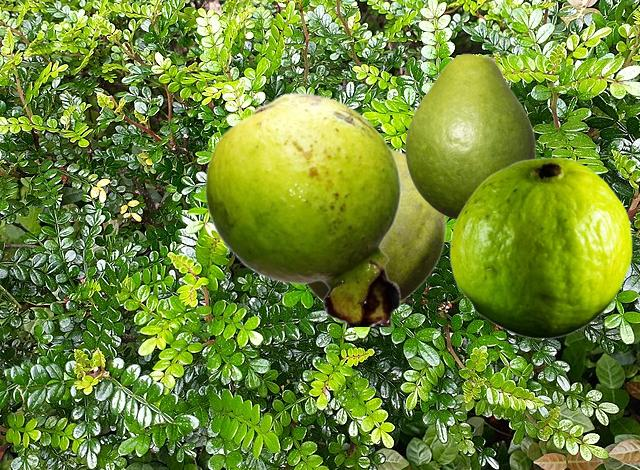guava: (204, 92, 401, 325), (449, 157, 631, 338), (305, 147, 446, 321), (405, 53, 534, 219)
